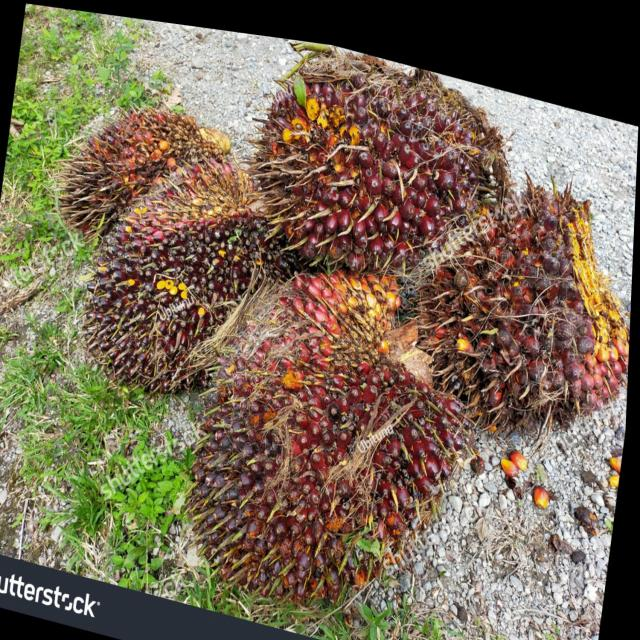Ripefruit: (170, 301, 479, 638), (244, 33, 506, 301), (411, 140, 637, 432), (75, 124, 283, 413), (47, 74, 238, 258), (280, 239, 412, 363)
